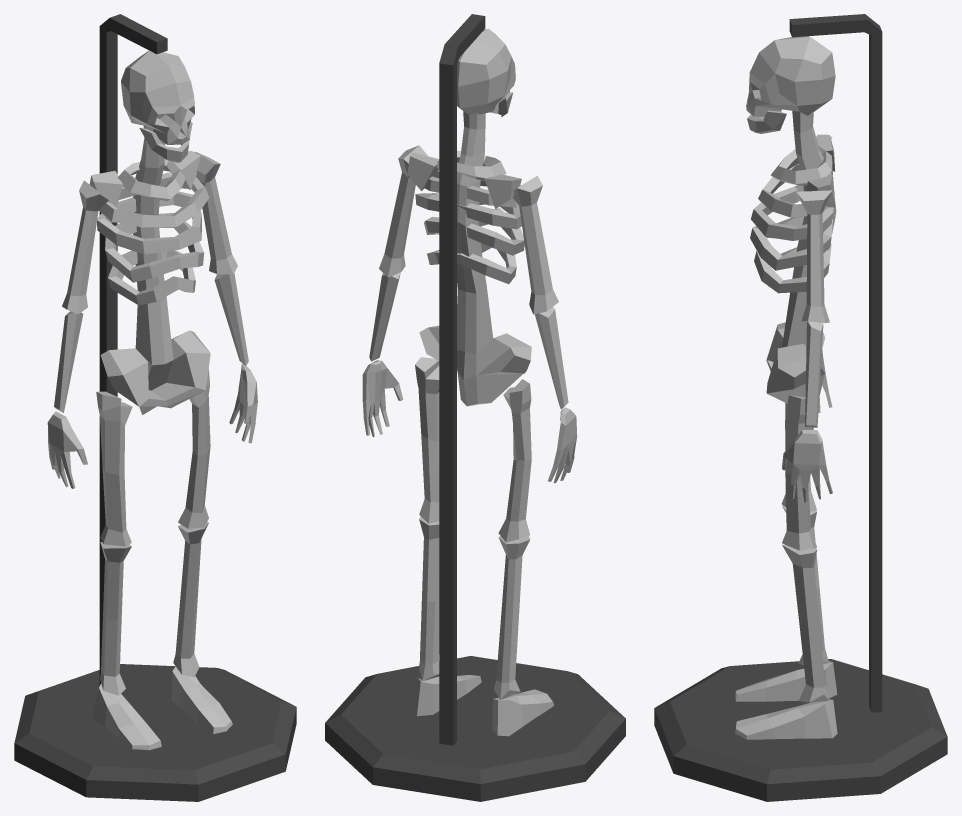
Rendered from Skeleton bhai.fbx.
3 renders of one model, left to right at view 1: azimuth 30°, elevation 25°; view 2: azimuth 150°, elevation 25°; view 3: azimuth 270°, elevation 25°, orthographic. The views are drawn at different scales.
Parts seen in each view (by area): view 1: _08_skeleton; view 2: _08_skeleton; view 3: _08_skeleton.
Part boxes in pixels (x1,y1,x2,y2): _08_skeleton: (14, 14, 296, 801); _08_skeleton: (325, 14, 625, 801); _08_skeleton: (654, 14, 947, 801).
Size of the model in its own units: 52.96 by 143 by 52.96.
